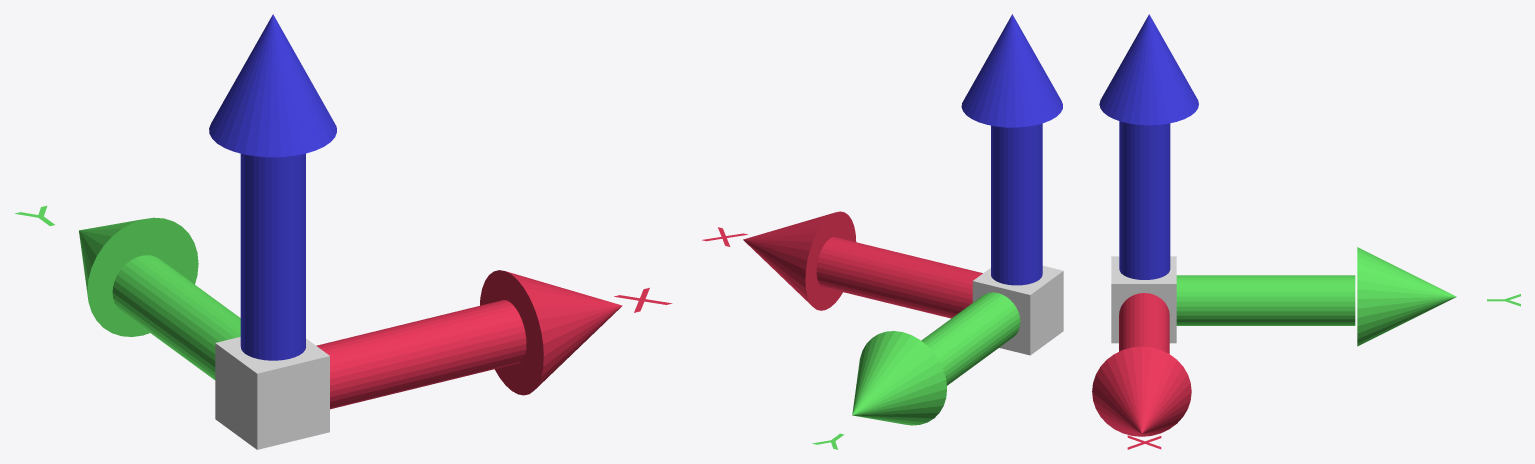
Rendered from orientation.glb.
3 views of the same model, side by side, from view 1: azimuth 30°, elevation 25°; view 2: azimuth 150°, elevation 25°; view 3: azimuth 270°, elevation 25° (orthographic). The views are drawn at different scales.
Visible parts, largest first — view 1: Cylinder, Cylinder.002, Cone, Cube, Cylinder.001, Cone.001, Cone.002; view 2: Cylinder, Cylinder.002, Cone.002, Cone, Cone.001, Cylinder.001, Cube; view 3: Cylinder.001, Cylinder, Cone.001, Cone, Cone.002, Cylinder.002, Cube.
Boxes of the visible parts, box(x1,y1,x2,y2) form: Cylinder: box(240, 153, 305, 360); Cylinder.002: box(316, 300, 526, 409); Cone: box(209, 14, 336, 157); Cube: box(215, 337, 329, 449); Cylinder.001: box(112, 255, 240, 379); Cone.001: box(480, 270, 622, 395); Cone.002: box(79, 217, 198, 336); Cylinder: box(991, 123, 1042, 285); Cylinder.002: box(816, 237, 982, 318); Cone.002: box(852, 331, 946, 425); Cone: box(961, 14, 1062, 127); Cone.001: box(743, 211, 856, 310); Cylinder.001: box(921, 292, 1020, 385); Cube: box(972, 265, 1063, 355); Cylinder.001: box(1176, 275, 1355, 325); Cylinder: box(1119, 121, 1170, 279); Cone.001: box(1092, 346, 1191, 436); Cone: box(1099, 14, 1198, 125); Cone.002: box(1357, 247, 1456, 346); Cylinder.002: box(1119, 293, 1169, 353); Cube: box(1111, 256, 1176, 343).
Bounding box in the file's own units: 7.94 × 7.4 × 8.61.
